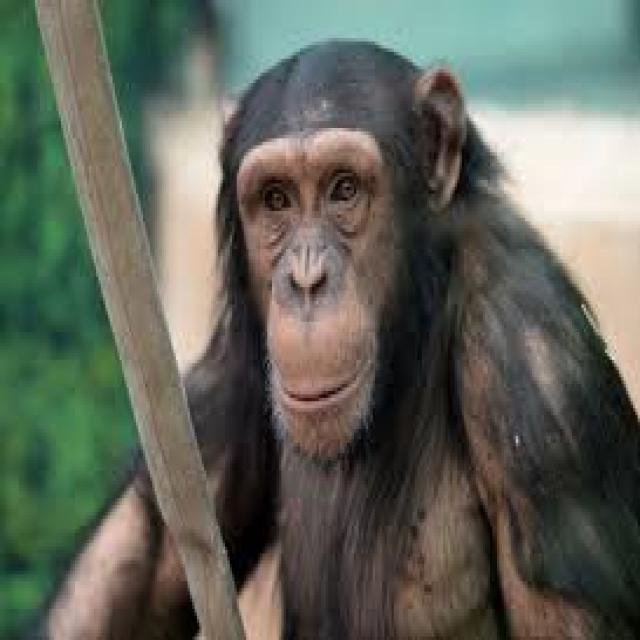Chimpanzee: (184, 41, 640, 640)
